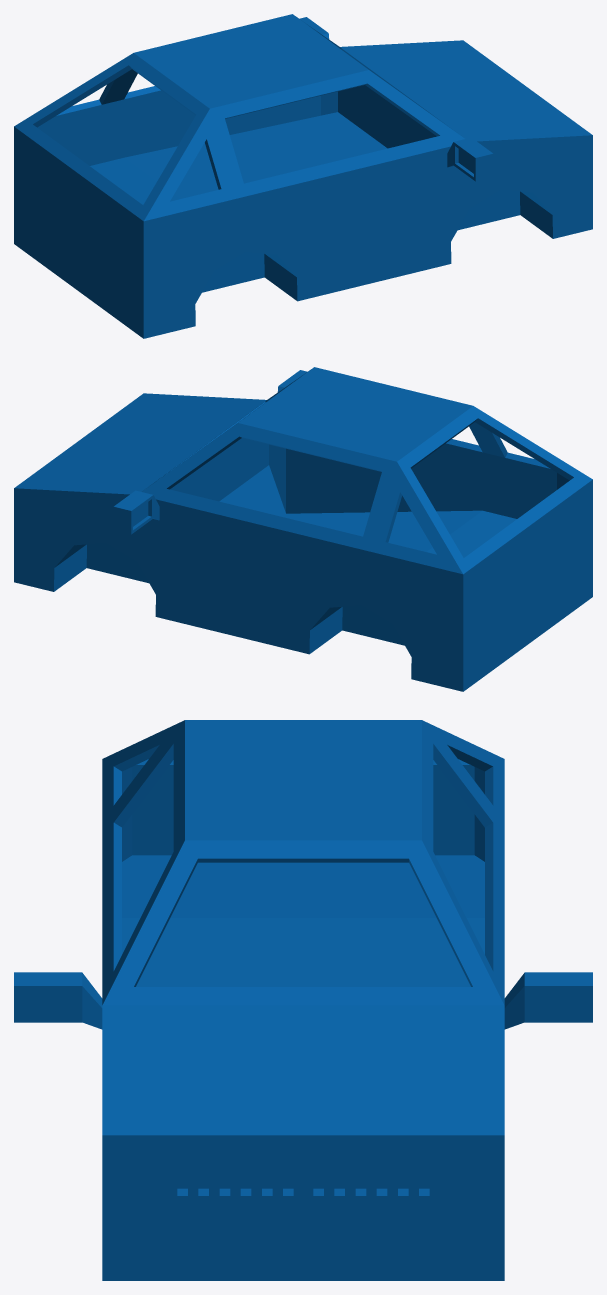
The model's file is Car.glb.
3 renders of one model, top to bottom at view 1: azimuth 30°, elevation 25°; view 2: azimuth 150°, elevation 25°; view 3: azimuth 270°, elevation 25°, orthographic. The views are drawn at different scales.
Visible parts, largest first — view 1: Cube.063; view 2: Cube.063; view 3: Cube.063.
Part boxes in pixels (<box>): Cube.063: <box>14,14,592,338</box>; Cube.063: <box>14,367,592,691</box>; Cube.063: <box>14,720,592,1280</box>.
Bounding box in the file's own units: 0.129 × 0.0516 × 0.0929.
Materials: 1 (1 with a texture image).
